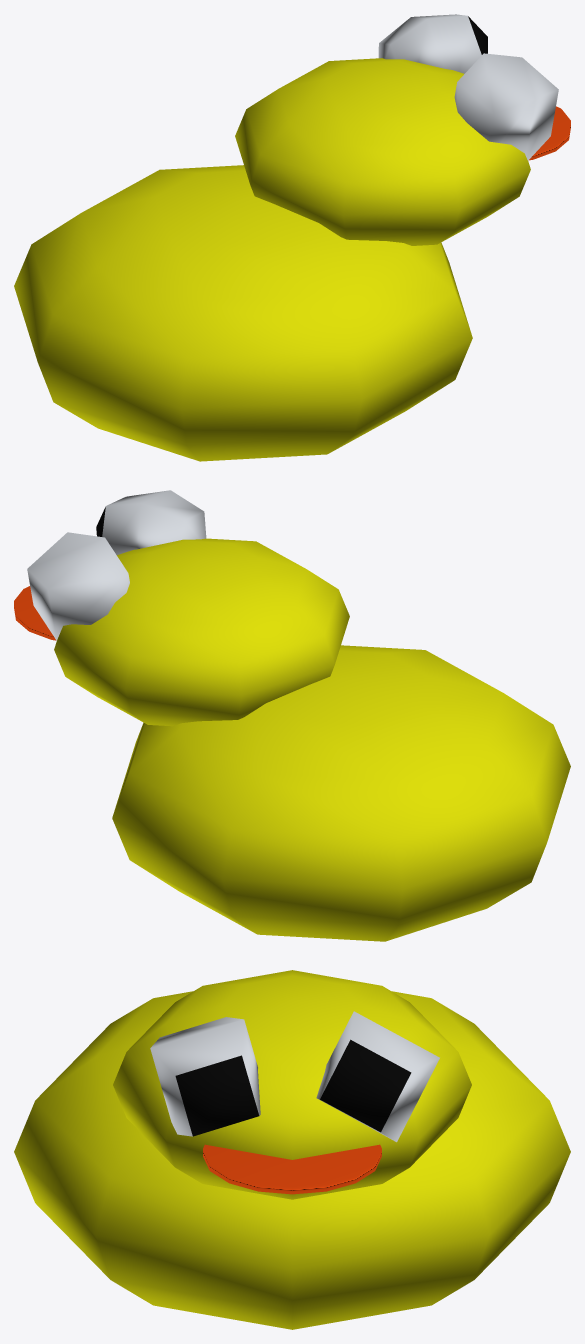
Rendered from Duck.fbx.
3 views of the same model, one above another, from view 1: azimuth 30°, elevation 25°; view 2: azimuth 150°, elevation 25°; view 3: azimuth 270°, elevation 25° (orthographic). The views are drawn at different scales.
Parts seen in each view (by area): view 1: Duck; view 2: Duck; view 3: Duck.
Part boxes in pixels (left/top/right/bottom): Duck: left=14, top=14, right=570, bottom=461; Duck: left=14, top=490, right=570, bottom=941; Duck: left=14, top=970, right=570, bottom=1329.
Bounding box in the file's own units: 255 × 157 × 200.
